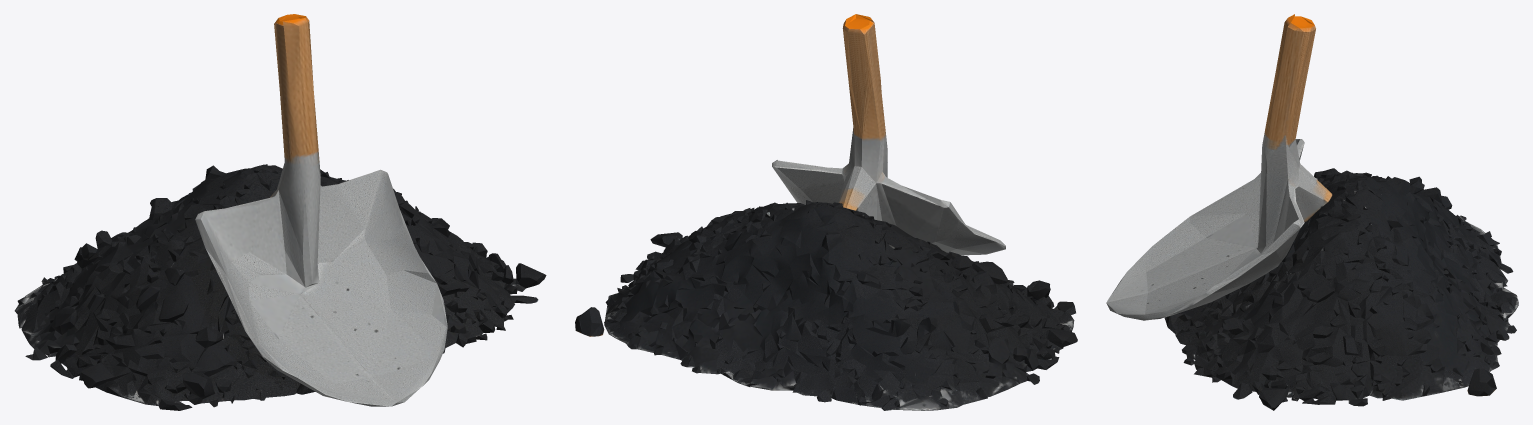
The picture shows the model from 3 angles, left to right: view 1: azimuth 30°, elevation 25°; view 2: azimuth 150°, elevation 25°; view 3: azimuth 270°, elevation 25°; orthographic projection. The views are drawn at different scales.
Bounding box in the file's own units: 1.77 × 1.13 × 1.47.
Materials: 1 (1 with a texture image).
